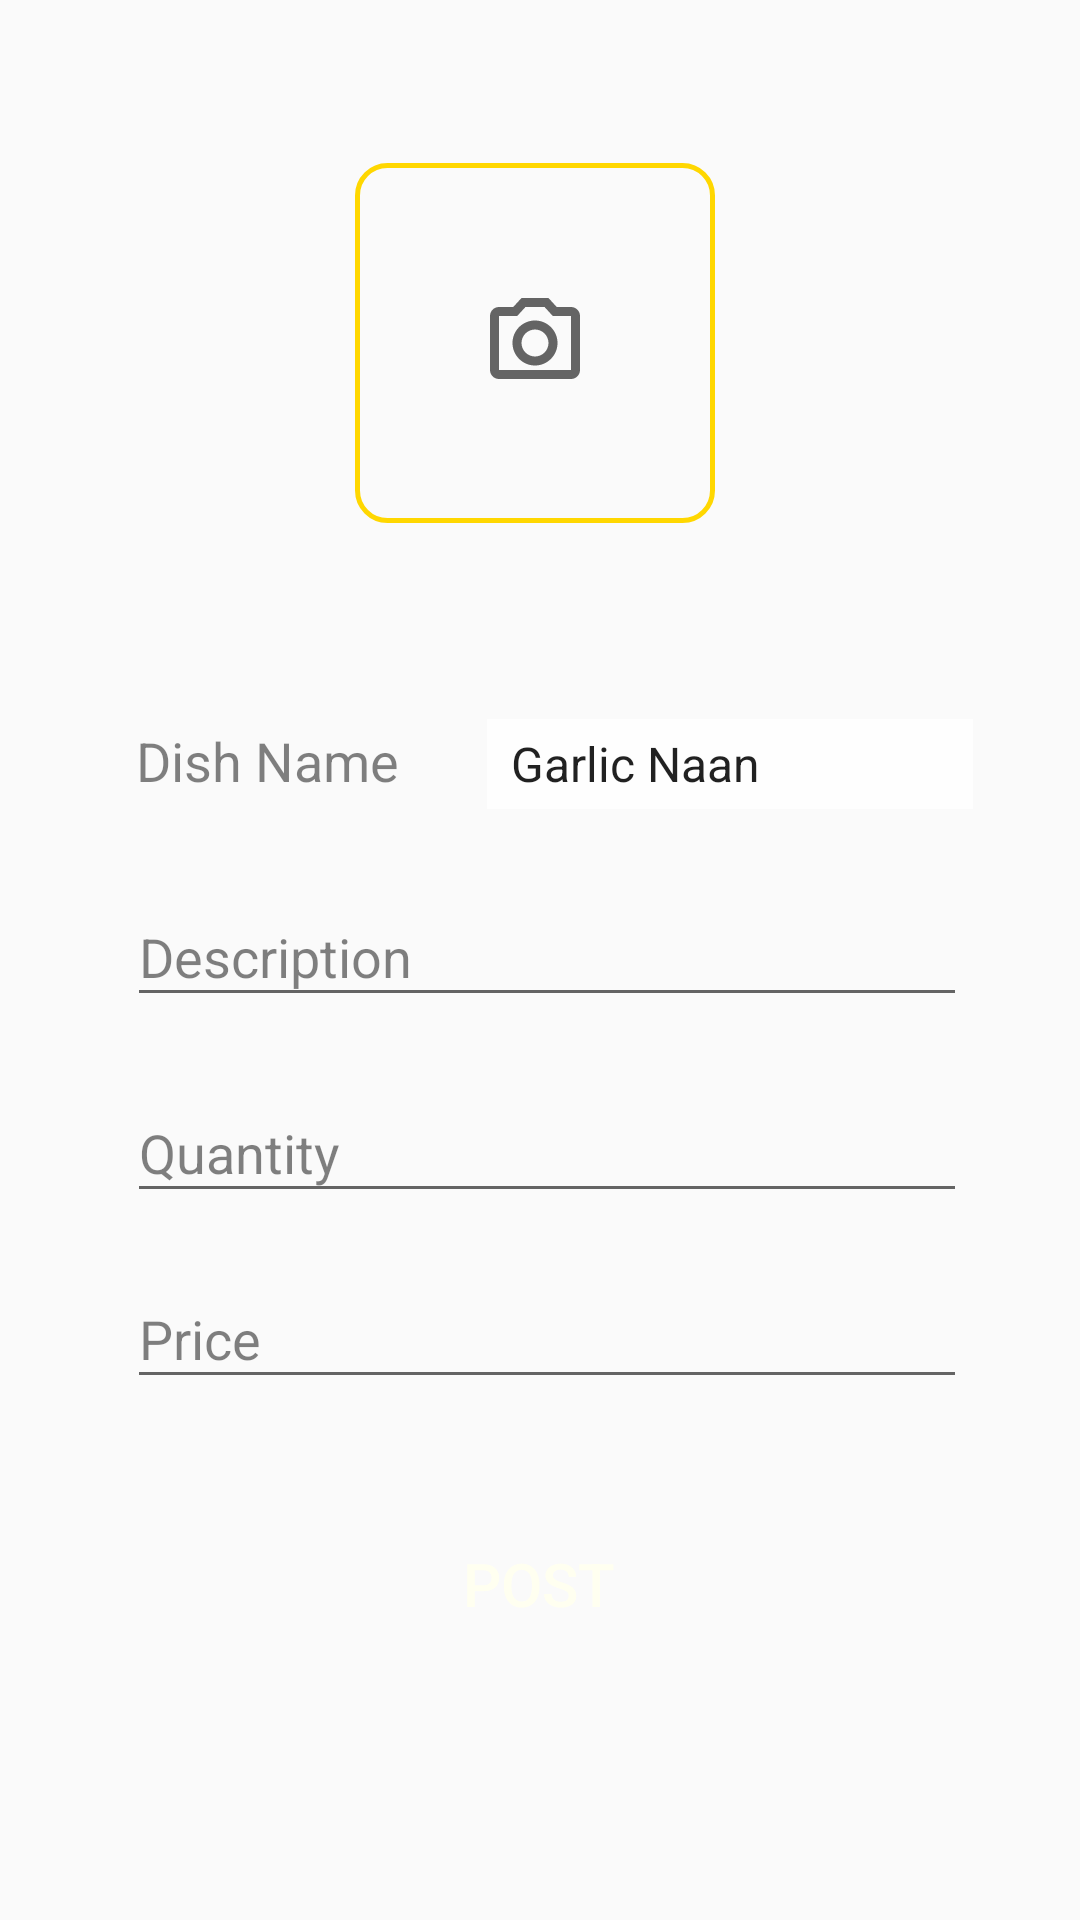

Icons on this 1080 x 1920 Android screen, each with the point to tap as point (x, y):
camera: point (535, 343)
